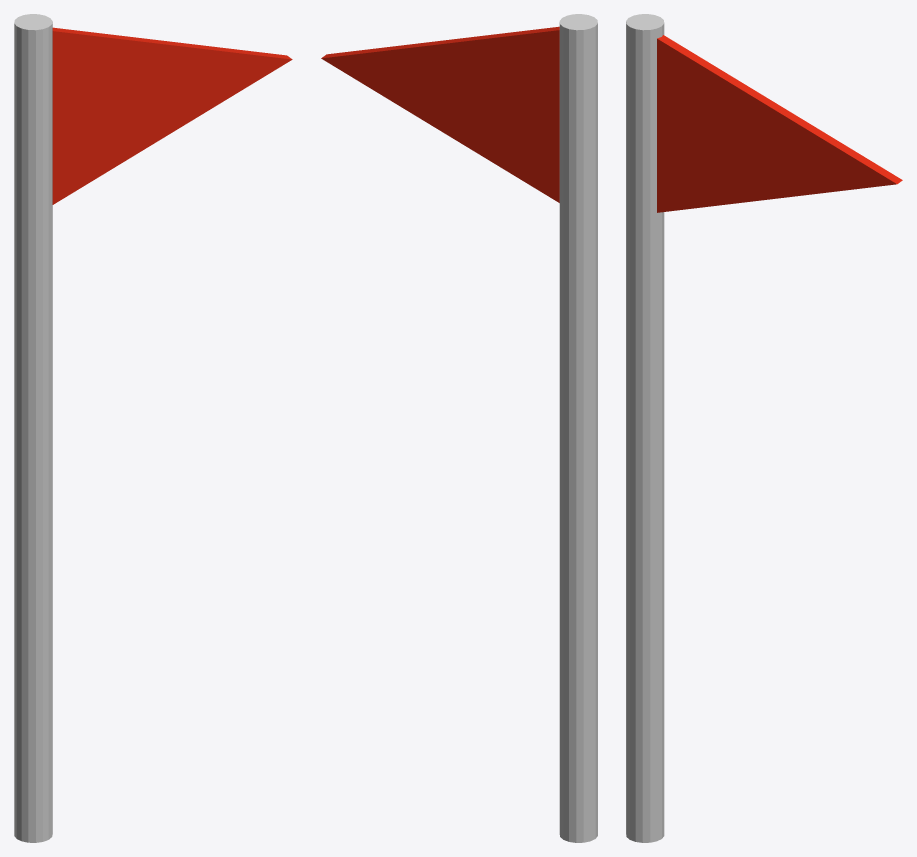
The model's file is Golf_Flag_Pole 1.fbx.
3 views of the same model, side by side, from view 1: azimuth 30°, elevation 25°; view 2: azimuth 150°, elevation 25°; view 3: azimuth 330°, elevation 25° (orthographic).
Parts seen in each view (by area): view 1: FlagPole, Flag; view 2: FlagPole, Flag; view 3: FlagPole, Flag.
Boxes of the visible parts, box(x1,y1,x2,y2) form: FlagPole: box(14, 14, 52, 842); Flag: box(52, 27, 292, 204); FlagPole: box(559, 14, 597, 842); Flag: box(321, 26, 559, 202); FlagPole: box(626, 14, 664, 842); Flag: box(657, 35, 902, 212).
Bounding box in the file's own units: 639 × 1821 × 78.53.
